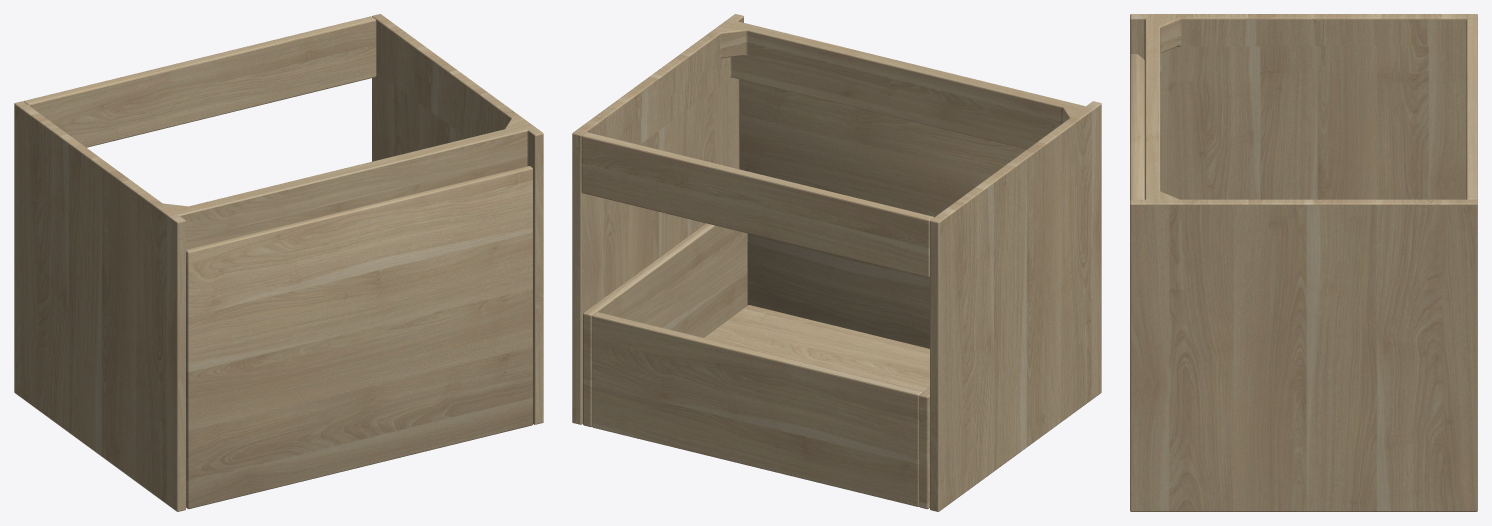
File: Vanity-Cabinet-600mm.glb
3 views of the same model, side by side, from view 1: azimuth 30°, elevation 25°; view 2: azimuth 150°, elevation 25°; view 3: azimuth 270°, elevation 25° (orthographic). The views are drawn at different scales.
Parts seen in each view (by area): view 1: Cube.003; view 2: Cube.003; view 3: Cube.003.
Part boxes in pixels (bbox=[...]): Cube.003: bbox=[14, 14, 543, 511]; Cube.003: bbox=[572, 14, 1101, 511]; Cube.003: bbox=[1130, 14, 1477, 511].
Bounding box in the file's own units: 0.5958 × 0.45 × 0.46.
Materials: 1 (1 with a texture image).
